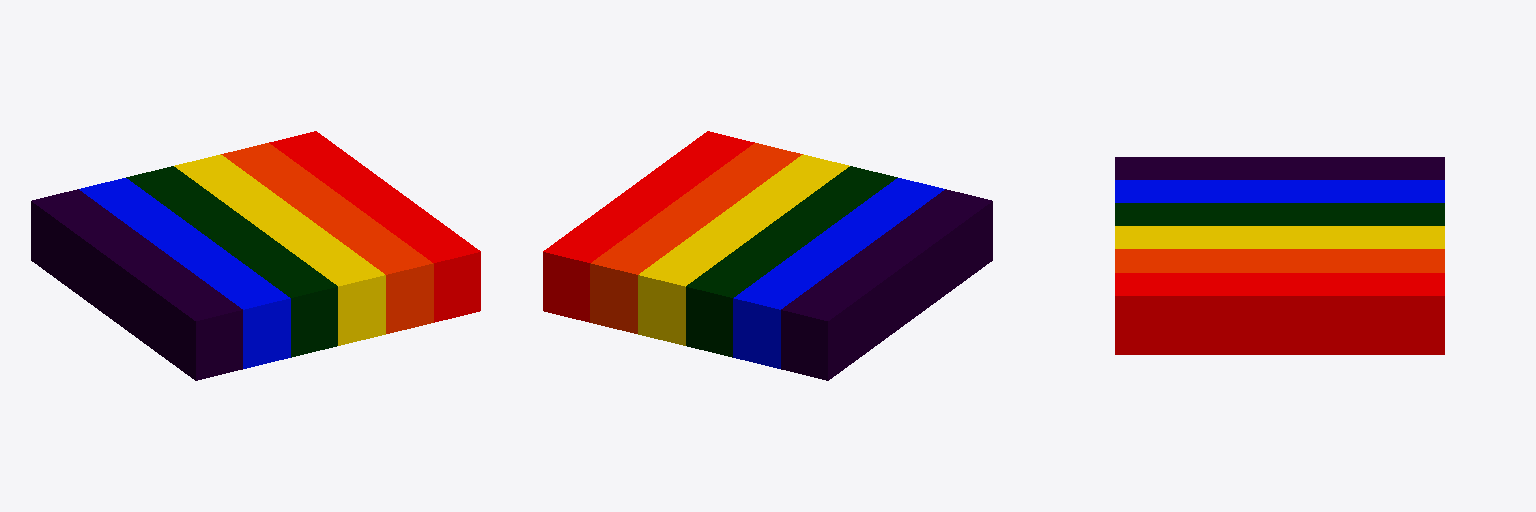
Rendered from rainbow.obj.
3 views of the same model, side by side, from view 1: azimuth 30°, elevation 25°; view 2: azimuth 150°, elevation 25°; view 3: azimuth 270°, elevation 25° (orthographic).
Parts seen in each view (by area): view 1: Cube; view 2: Cube; view 3: Cube.
Boxes of the visible parts, x1=… form: Cube: x1=31, y1=131, x2=480, y2=380; Cube: x1=543, y1=131, x2=992, y2=380; Cube: x1=1115, y1=157, x2=1444, y2=354.
Size of the model in its own units: 1.41 by 0.2816 by 1.41.